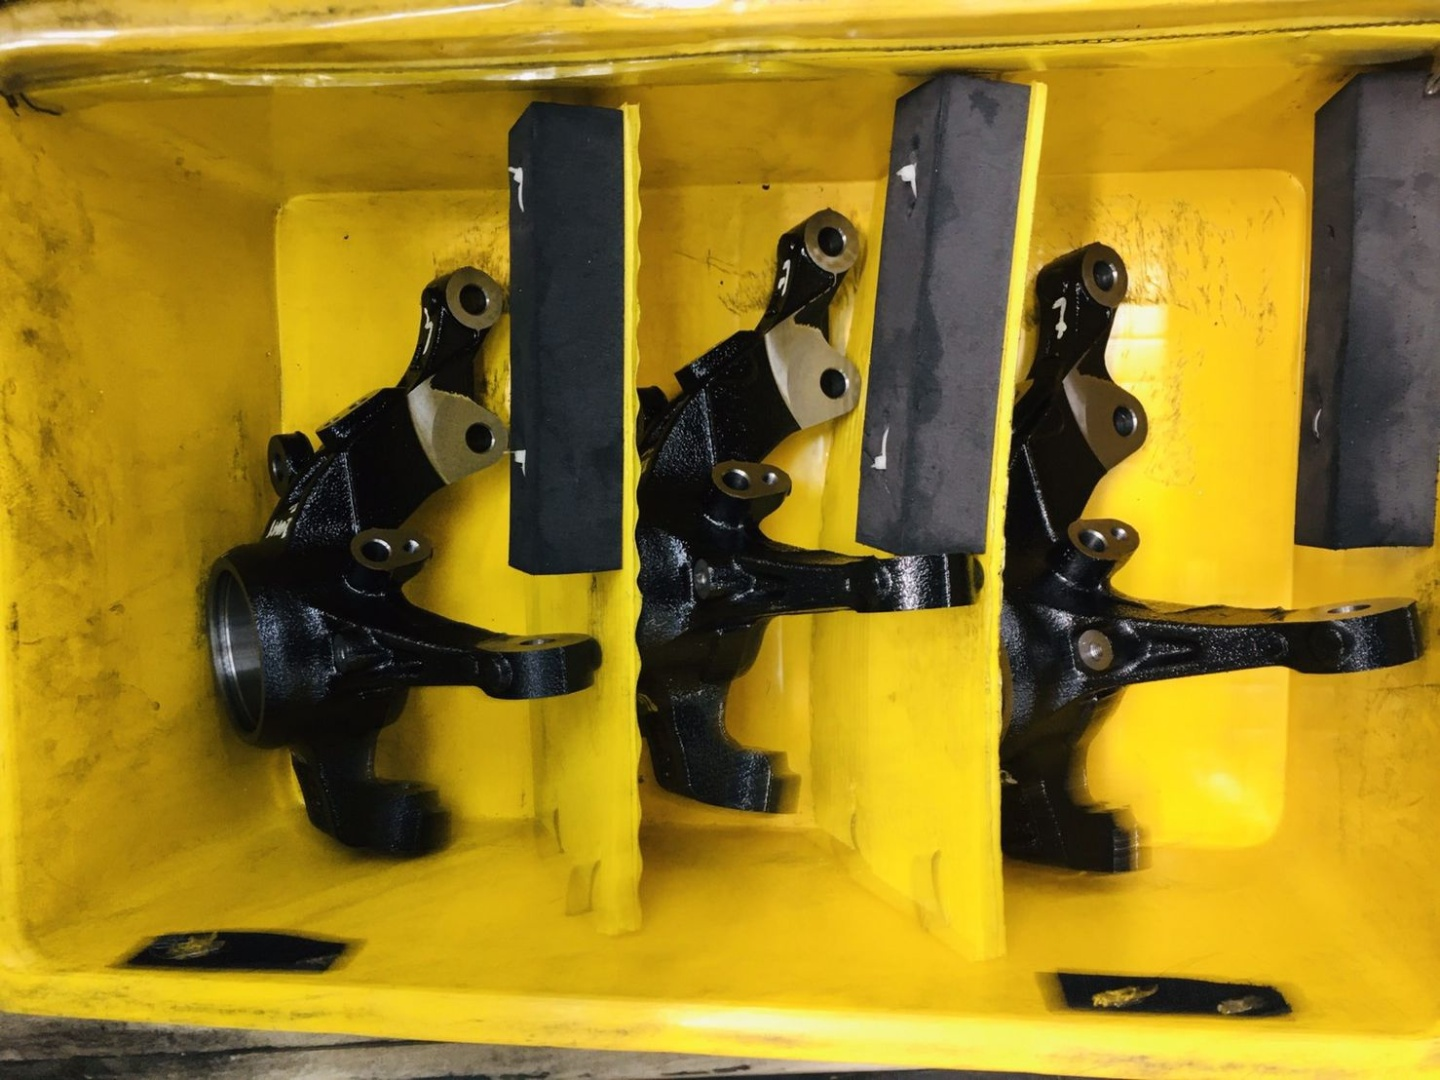abs-lh: (999, 227, 1432, 908), (190, 253, 611, 871), (624, 200, 990, 841)
